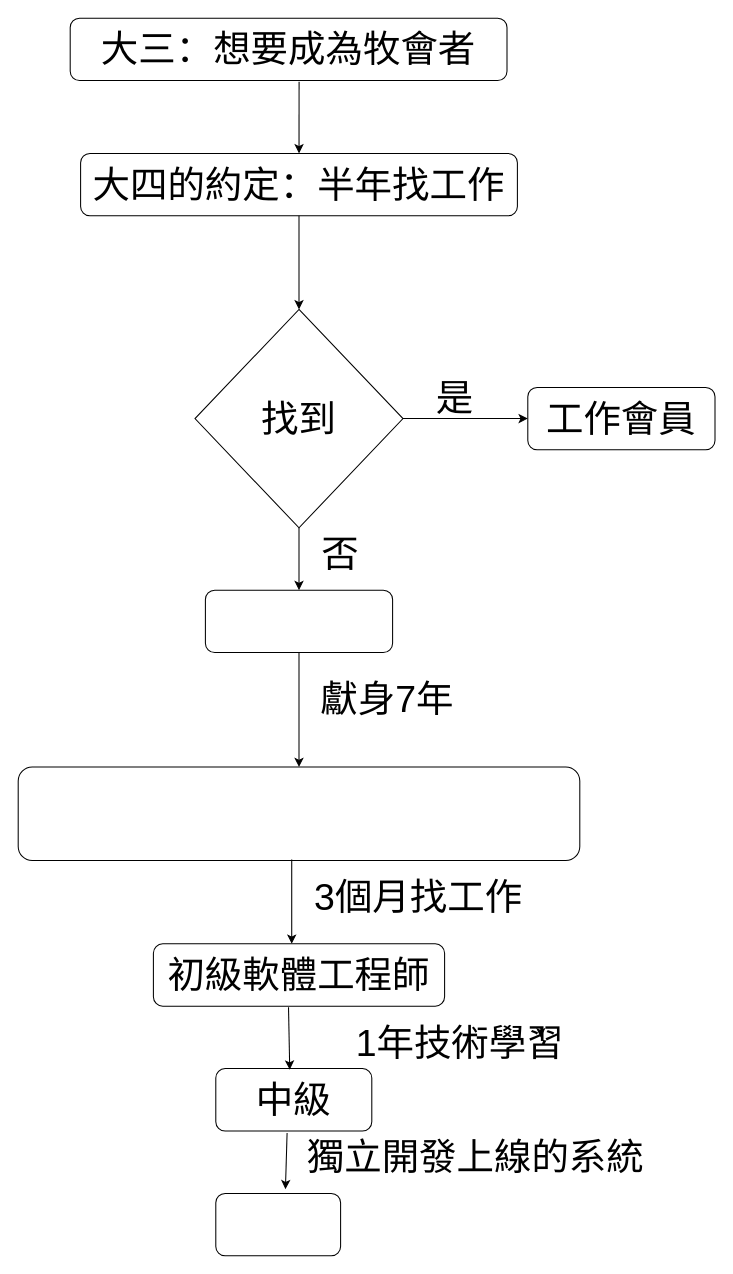
The diagram is 733 pixels wide and 1274 high, and some of its shapes have lost their labels. The shapes that lost their labels are listed below. From the top down, each one's box as (x1, y1, x2, y2) in pixels, then its label:
(204, 589, 393, 653): 獻身會員
(17, 766, 580, 861): 重新約定：先建立祝福家庭，累積第三祝福的基台，再牧會
(215, 1192, 341, 1256): 高級
